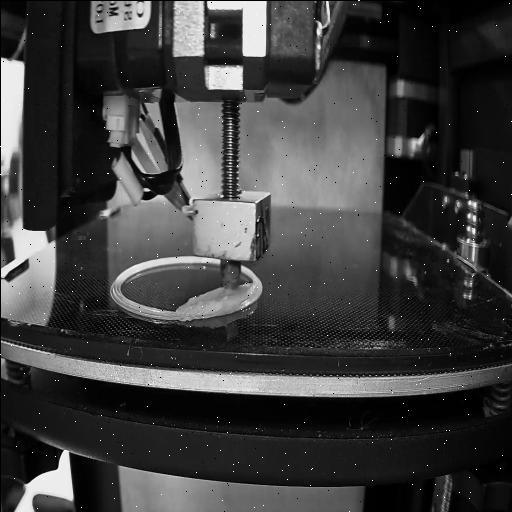over_extrusion: (244, 280, 258, 298), (184, 294, 200, 308)
